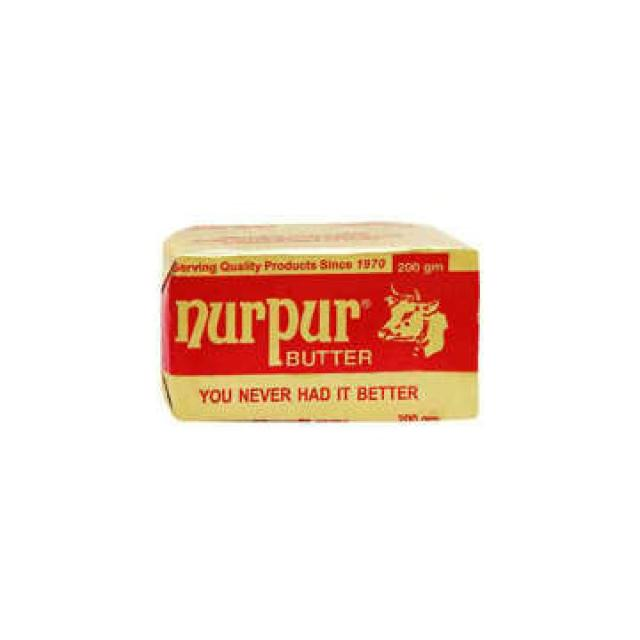butter: (158, 219, 480, 423)
